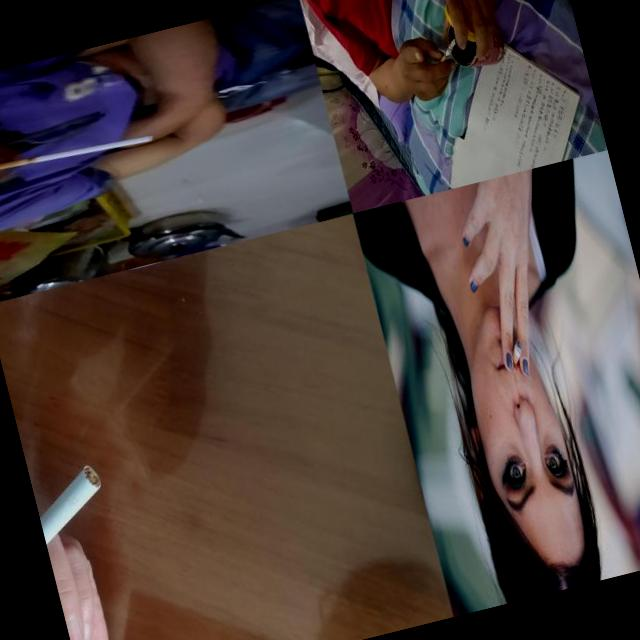smoke: (30, 462, 123, 588), (0, 124, 154, 180), (508, 337, 528, 372), (434, 38, 459, 64)
